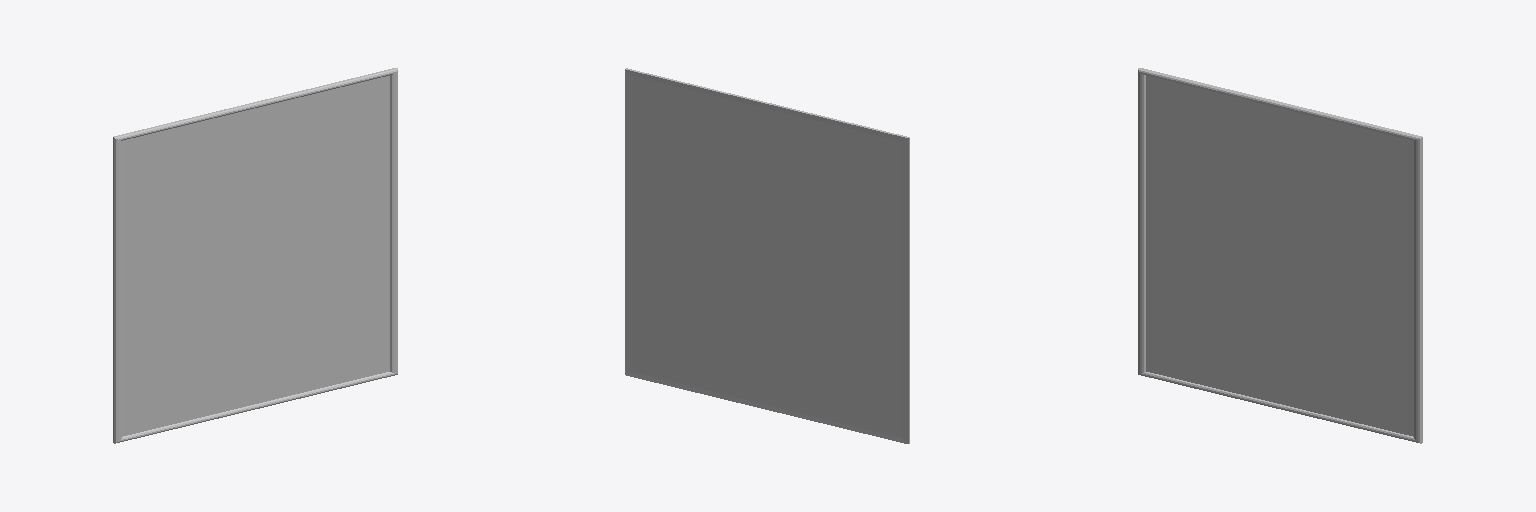
Rendered from PictureFrame5.obj.
3 views of the same model, side by side, from view 1: azimuth 30°, elevation 25°; view 2: azimuth 150°, elevation 25°; view 3: azimuth 330°, elevation 25° (orthographic).
Visible parts, largest first — view 1: Cube_Cube.005; view 2: Cube_Cube.005; view 3: Cube_Cube.005.
Part boxes in pixels (x1,y1,x2,y2): Cube_Cube.005: (113, 68, 397, 443); Cube_Cube.005: (625, 68, 909, 443); Cube_Cube.005: (1138, 68, 1422, 443).
Bounding box in the file's own units: 2.03 × 2.09 × 0.0297.